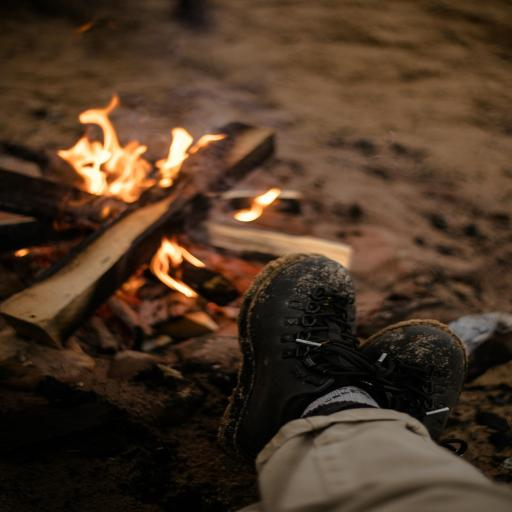campfire: (0, 72, 352, 252)
